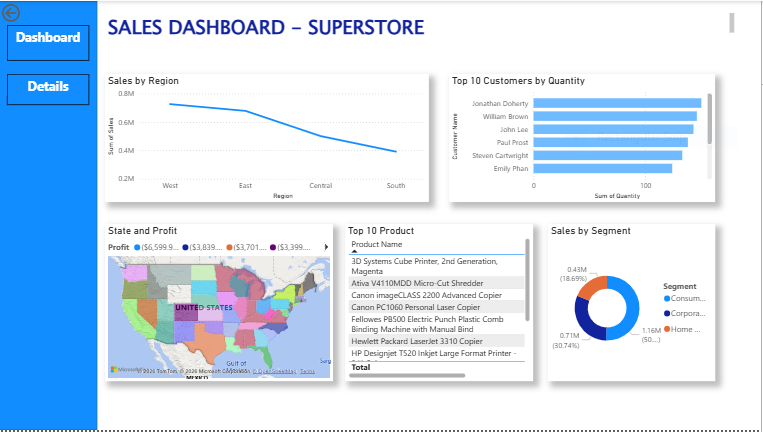

What the dashboard file says about the page in this screenshot:
{"tool":"powerbi","page":{"name":"Page 2","canvas":[1280,720],"ordinal":1},"visuals":[{"type":"group","id":"g1","title":"Group 1","box":[0,0,165.1,720.8],"z":0},{"type":"textbox","box":[178.1,15.1,1061.6,50.4],"z":1000},{"type":"shape","box":[0,0,165.1,720.8],"z":2000,"group":"g1"},{"type":"actionButton","box":[0,0,100,40],"z":2000},{"type":"textbox","box":[13.4,40.3,137.7,60.5],"z":3000,"group":"g1"},{"type":"lineChart","title":"Sales by Region","fields":{"Y":["Superstore.Sales"],"Category":["Superstore.Region"]},"box":[178.1,122.6,544.3,215],"z":3000},{"type":"textbox","box":[13.4,122.6,137.7,52.1],"z":4000,"group":"g1"},{"type":"tableEx","title":"Top 10 Product ","fields":{"Values":["Superstore.Product Name","Superstore.Profit"]},"box":[581.2,374.6,315.8,263.7],"z":4000},{"type":"barChart","title":"Top 10 Customers by  Quantity","fields":{"Category":["Superstore.Customer Name"],"Y":["Superstore.Quantity"]},"box":[755.9,122.6,446.8,215],"z":5000},{"type":"donutChart","title":"Sales by Segment","fields":{"Category":["Superstore.Segment"],"Y":["Superstore.Sales"]},"box":[922.2,374.6,280.5,263.7],"z":6000},{"type":"filledMap","fields":{"Category":["Superstore.State"],"Series":["Superstore.Profit"]},"box":[178.1,374.6,383,263.7],"z":6001}]}

Visuals, with their boxes on the page's 1280x720 design canvas (x1, y1, x2, y2). These are canvas units, not pixel positions in the 763x432 screenshot, which may show the page scaled, cropped or inside an application window:
"Group 1" group: bbox=[0, 0, 165, 721]
textbox: bbox=[178, 15, 1240, 66]
shape: bbox=[0, 0, 165, 721]
actionButton: bbox=[0, 0, 100, 40]
textbox: bbox=[13, 40, 151, 101]
"Sales by Region" lineChart: bbox=[178, 123, 722, 338]
textbox: bbox=[13, 123, 151, 175]
"Top 10 Product " tableEx: bbox=[581, 375, 897, 638]
"Top 10 Customers by  Quantity" barChart: bbox=[756, 123, 1203, 338]
"Sales by Segment" donutChart: bbox=[922, 375, 1203, 638]
filledMap - Superstore.State x Superstore.Profit: bbox=[178, 375, 561, 638]
